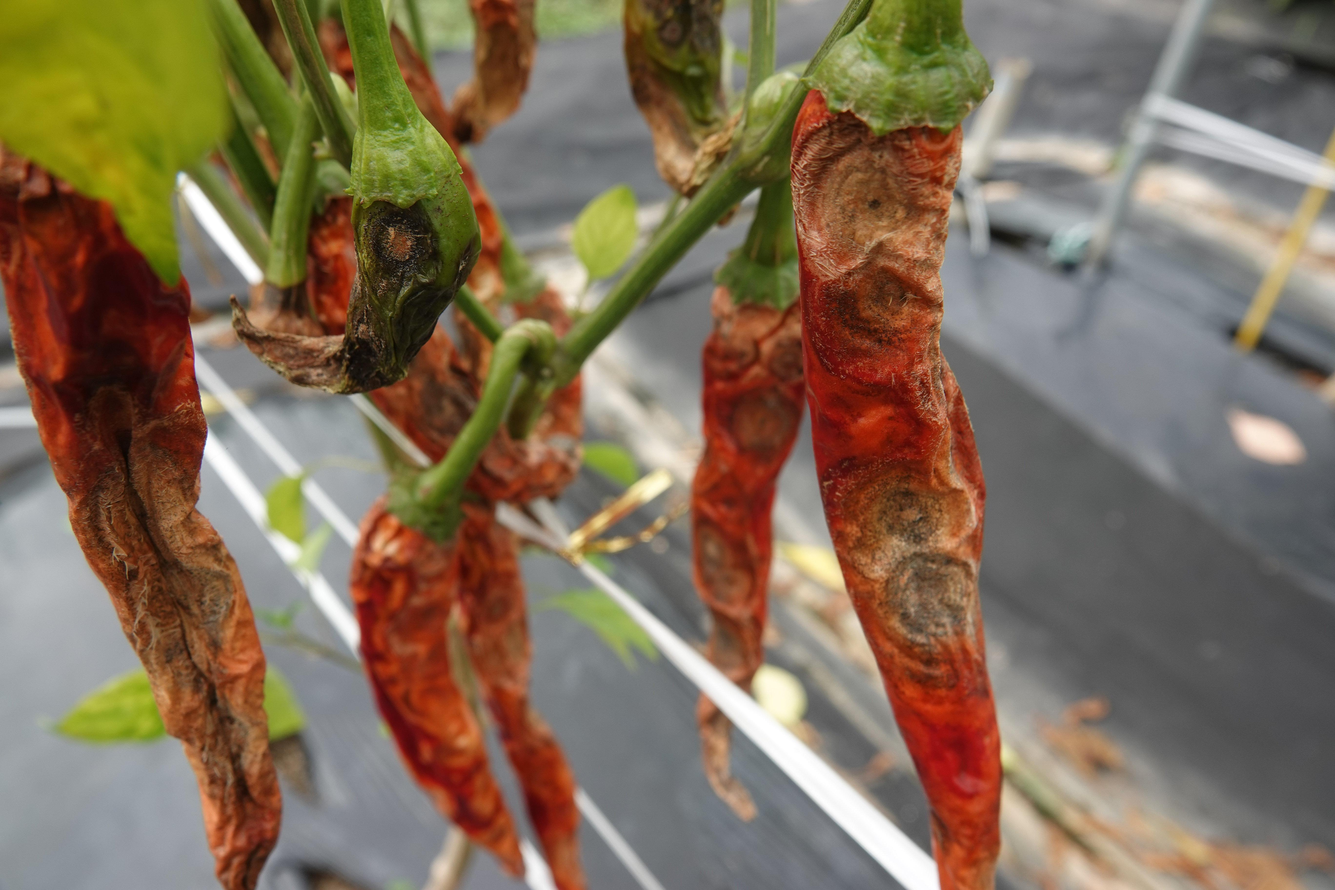Busuk Buah Antraknosa: (0, 118, 304, 890), (785, 2, 1006, 888), (239, 89, 483, 410), (349, 491, 522, 867), (700, 240, 799, 831)
